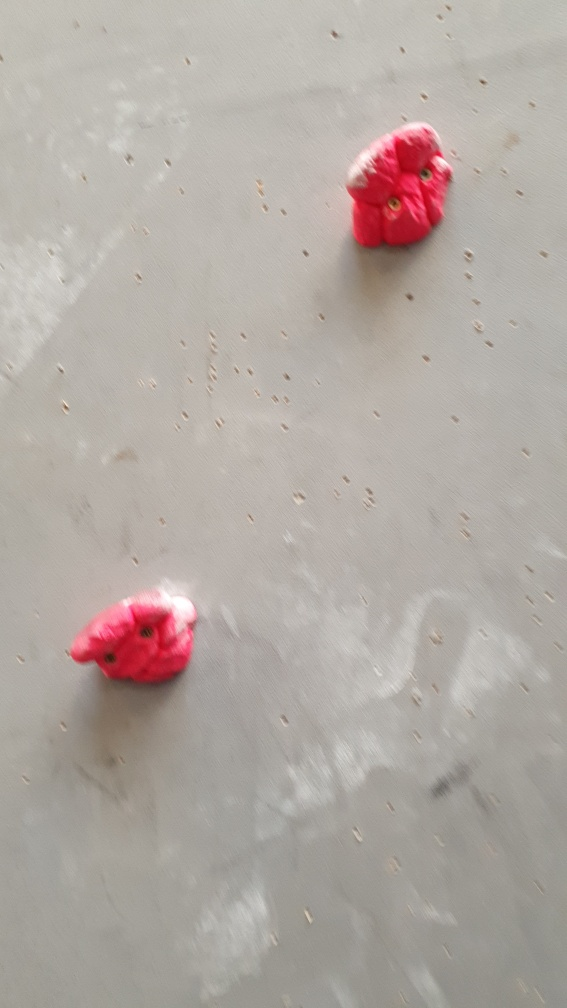Jug: (344, 119, 460, 263), (67, 580, 202, 689)
